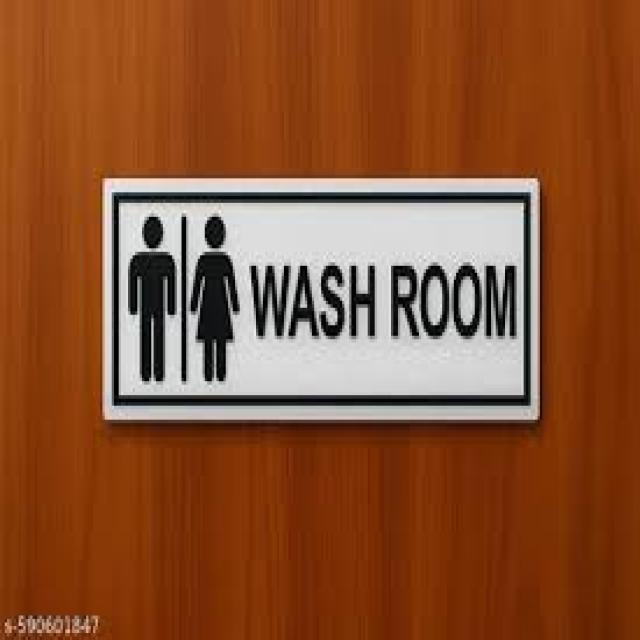toilet_icon: (124, 208, 243, 395)
